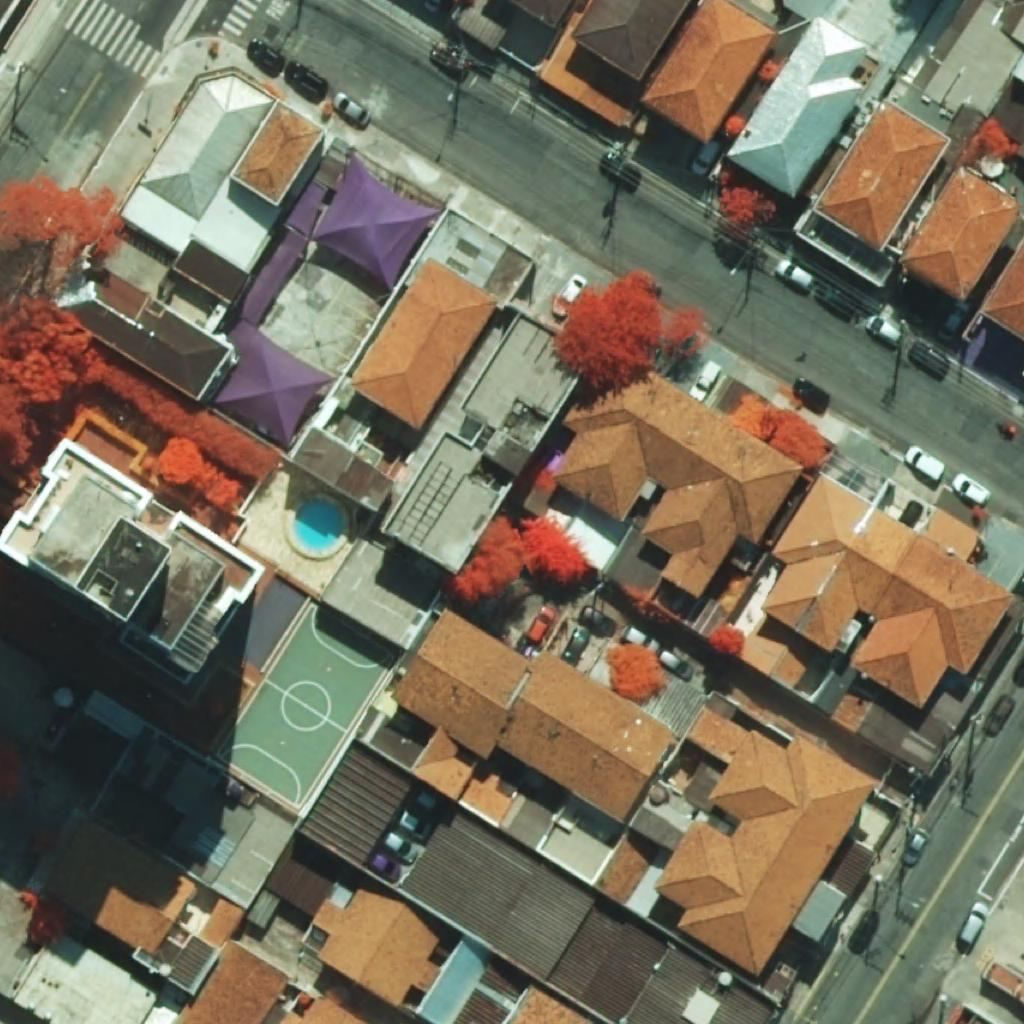pool: (293, 497, 343, 551)
